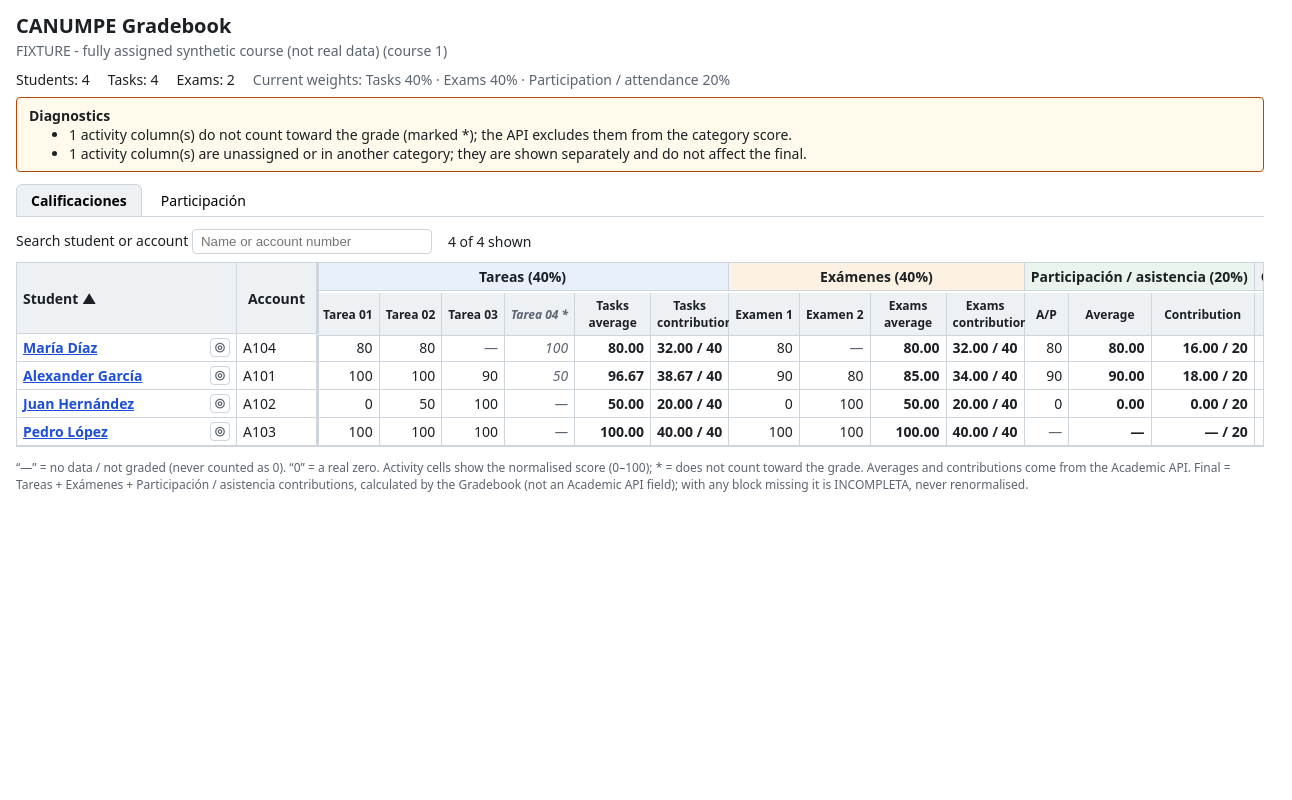
Test: Participación tab › C. + E. a capture records every selected student and nobody else
expect the table is shown: met, box x1=17 y1=263 x2=1264 y2=446
Click the tab "Participación". click: (203, 200)
box: x1=146 y1=184 x2=261 y2=216
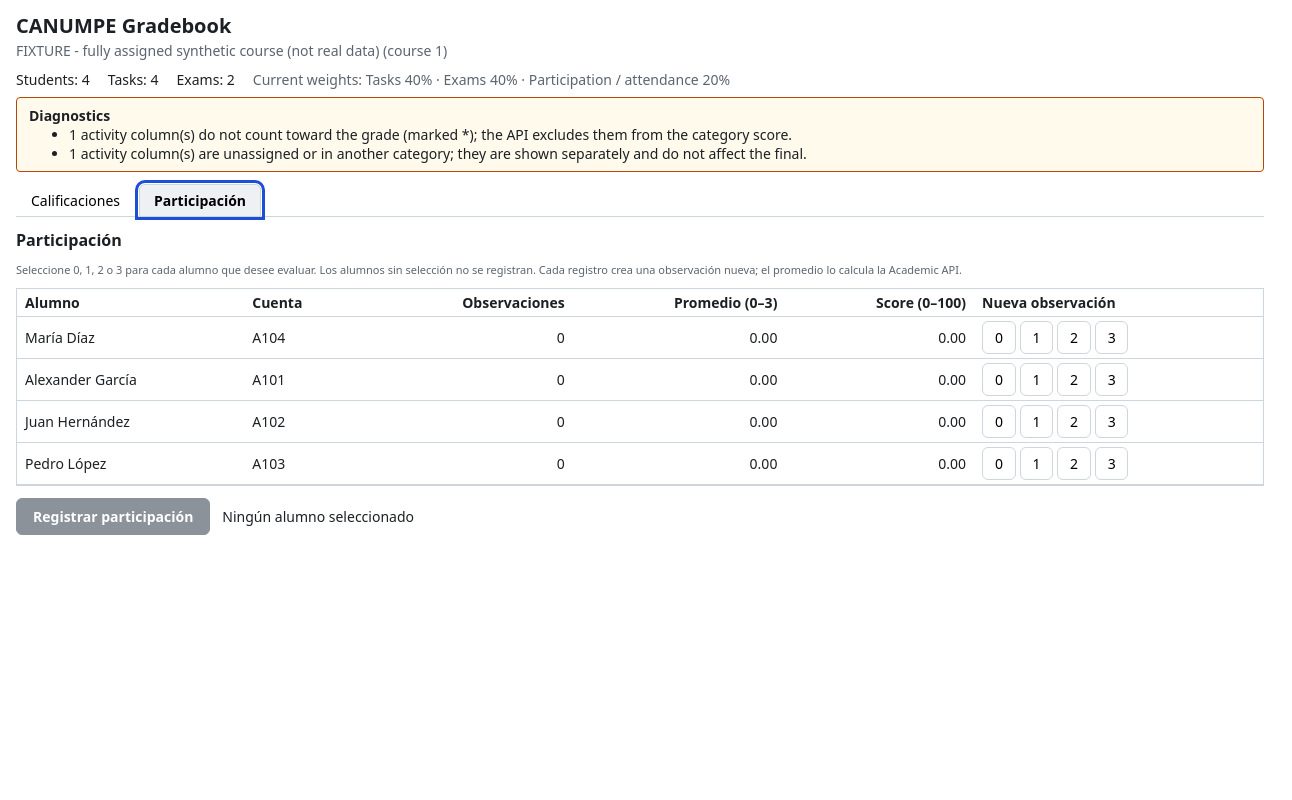
Click the radio button labelled "2" in the row of "Alexander García". click: (1074, 380)
box: x1=1057 y1=363 x2=1091 y2=396
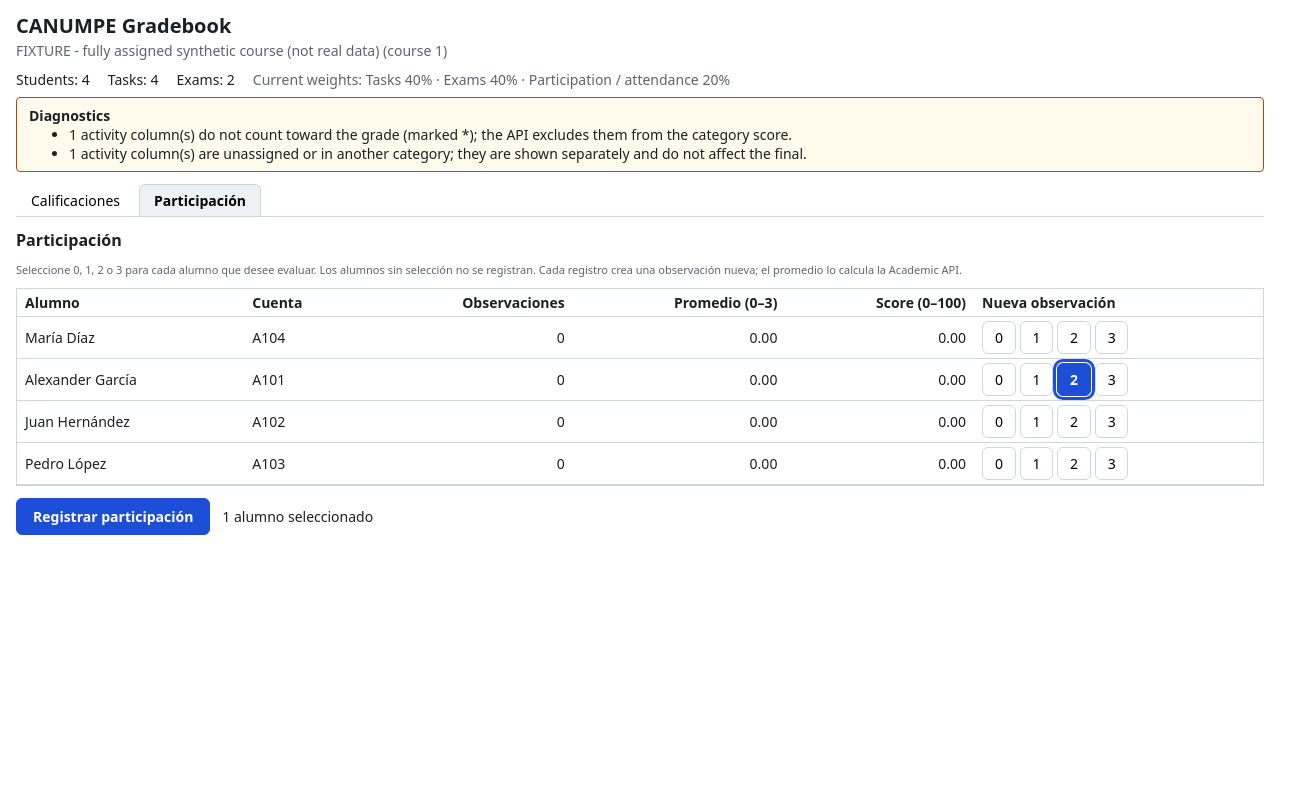
Click the radio button labelled "3" in the row of "Juan Hernández". click: (1112, 422)
box: x1=1095 y1=405 x2=1128 y2=438
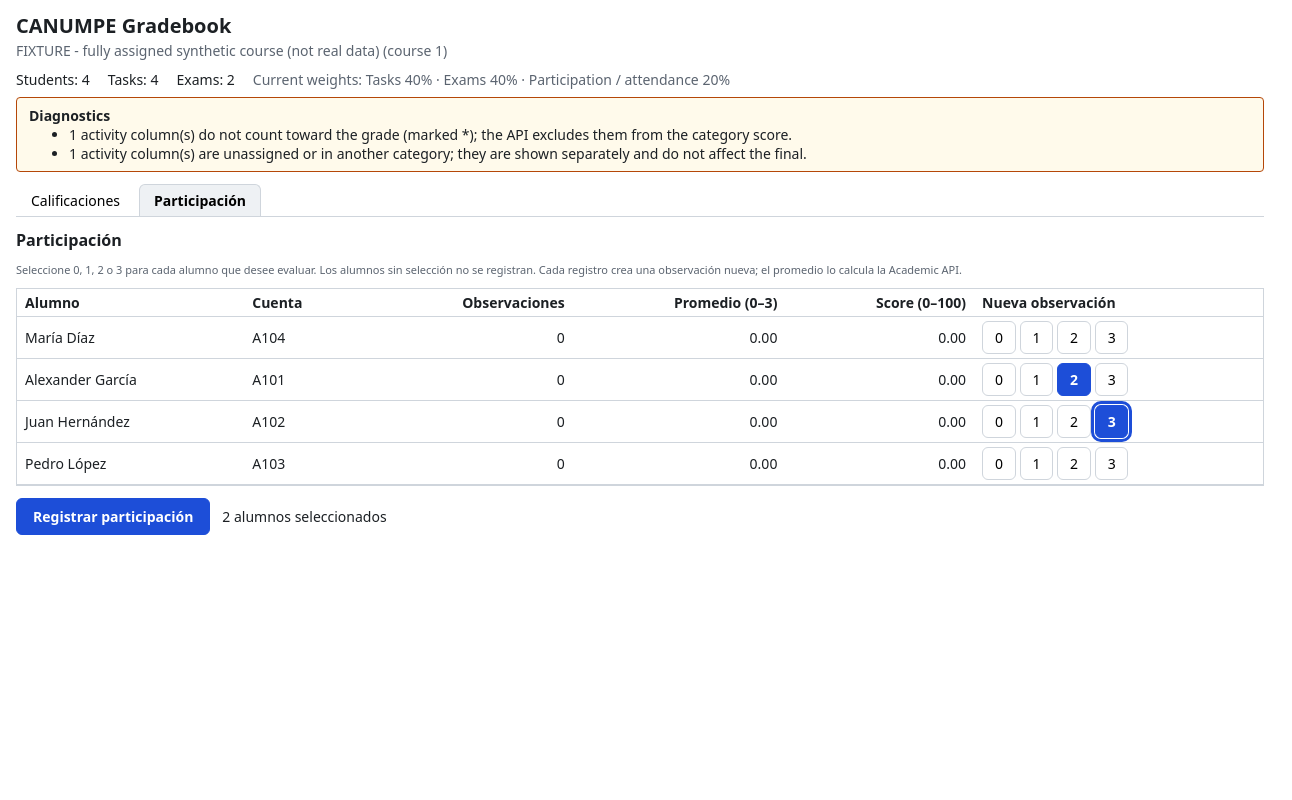
Click the radio button labelled "0" in the row of "María Díaz". click: (999, 338)
box: x1=982 y1=321 x2=1016 y2=354
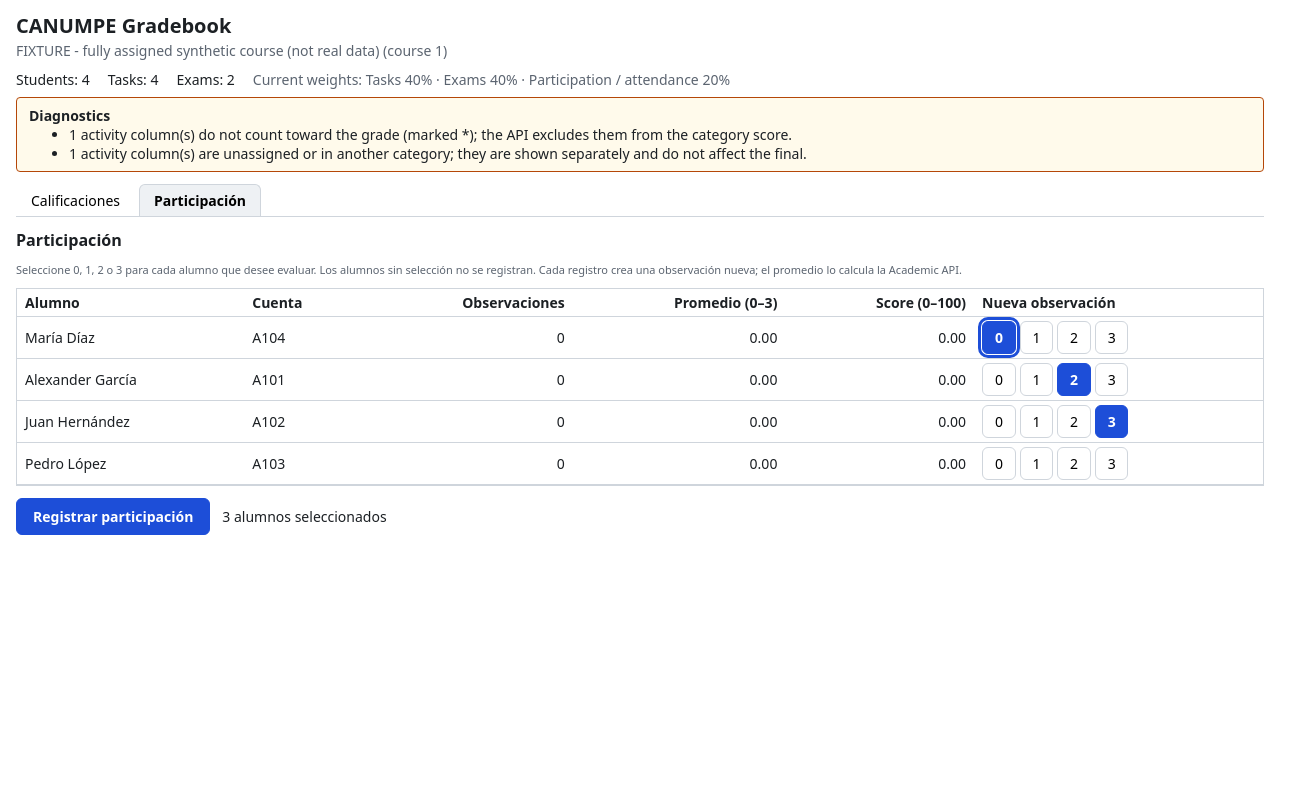
expect the text "3 alumnos seleccionados" is shown: met, box x1=222 y1=507 x2=387 y2=526
Click the button "Registrar participación". click: (113, 516)
box: x1=16 y1=498 x2=210 y2=535
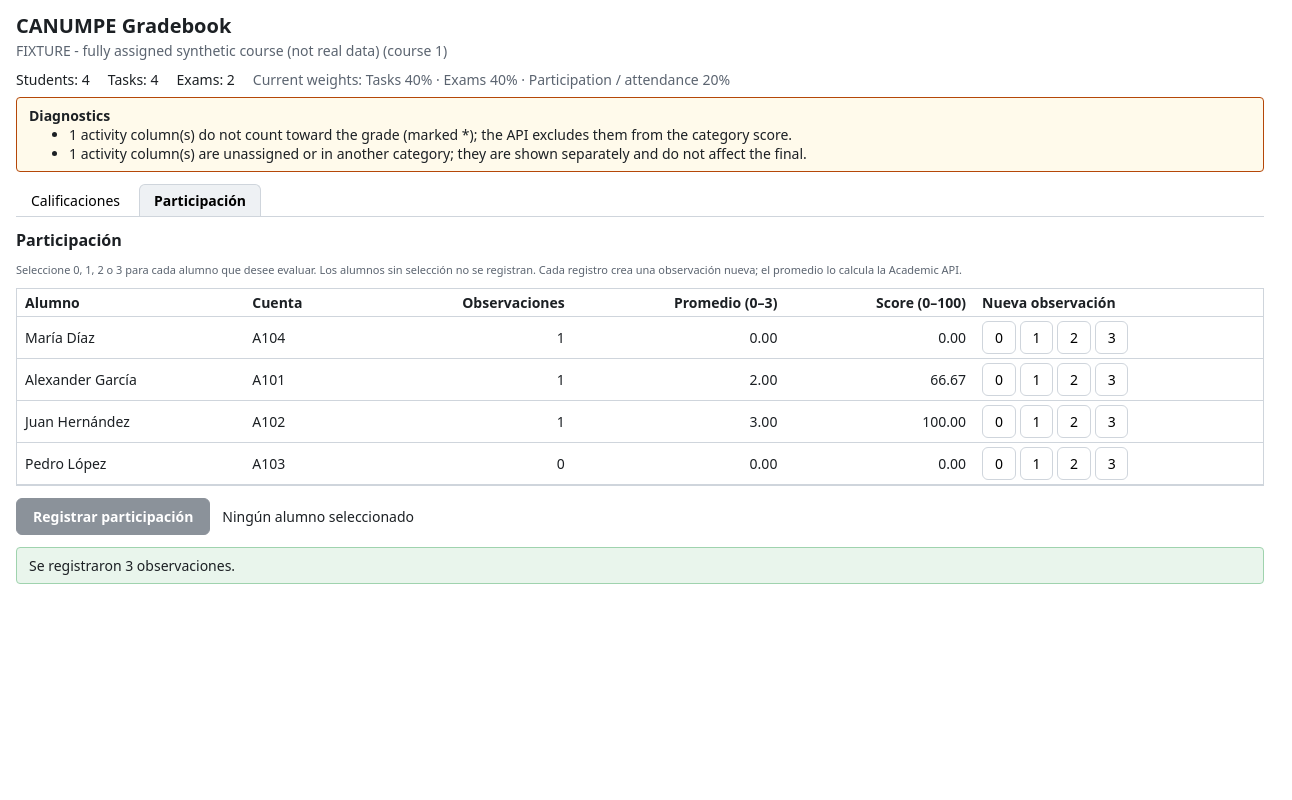
expect the message reads "Se registraron 3 observaciones.": met, box x1=16 y1=547 x2=1264 y2=584
